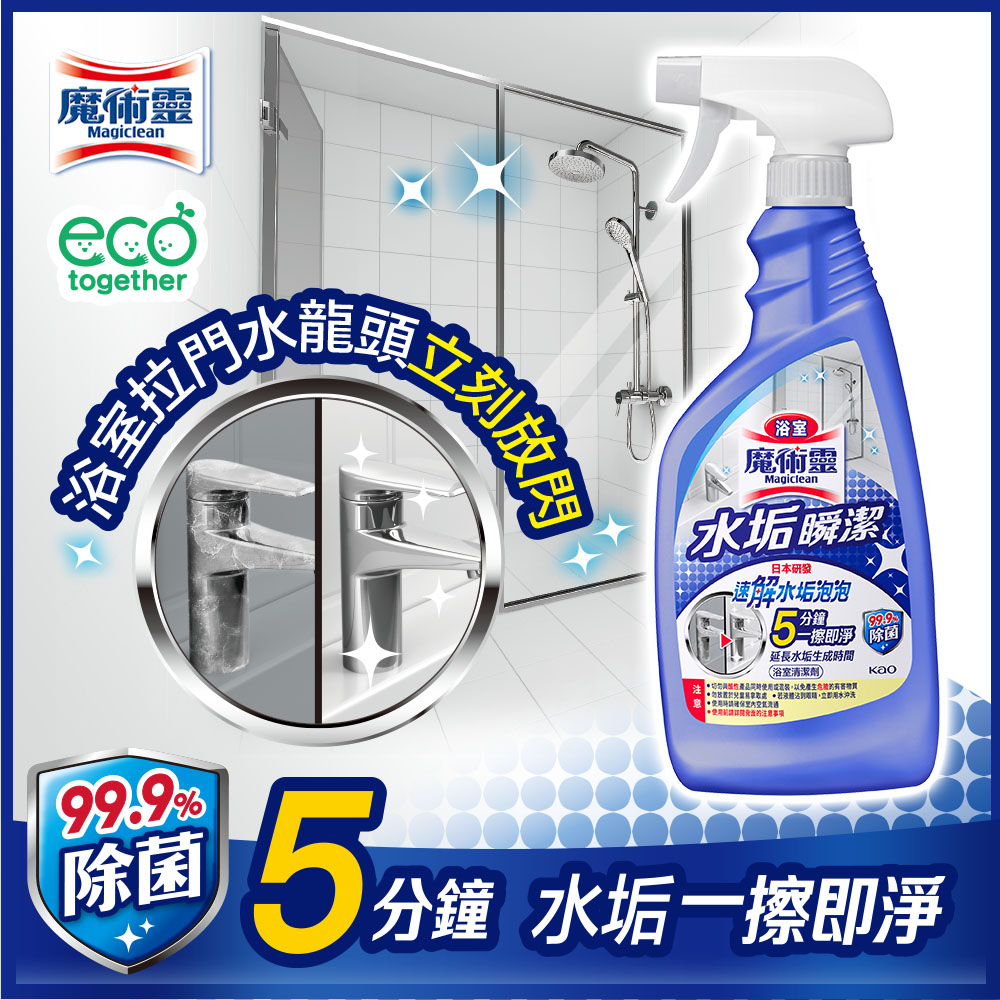cleaner: (603, 45, 949, 799)
